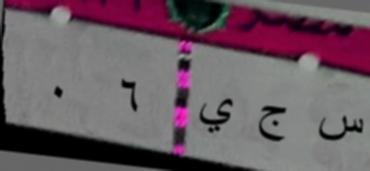0: (48, 71, 69, 113)
6: (113, 66, 144, 124)
jeem: (249, 97, 291, 150)
seen: (310, 98, 368, 160)
yaa: (190, 91, 236, 141)
